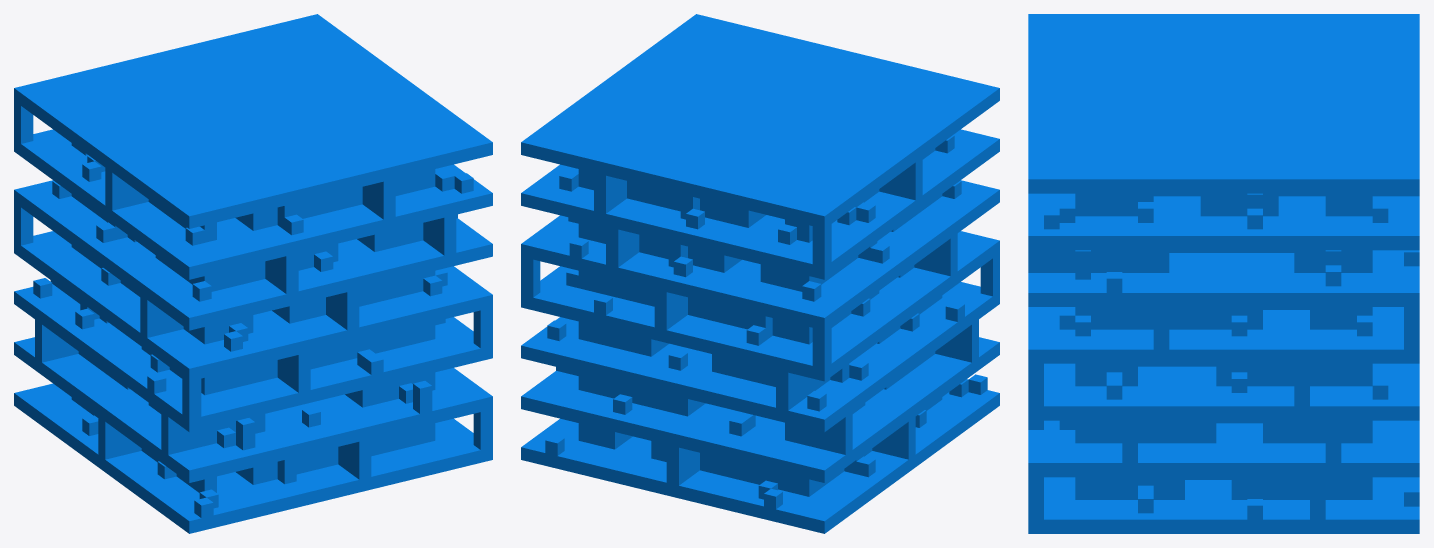
The model's file is ерейнд.dae.
3 views of the same model, side by side, from view 1: azimuth 30°, elevation 25°; view 2: azimuth 150°, elevation 25°; view 3: azimuth 270°, elevation 25° (orthographic). The views are drawn at different scales.
Visible parts, largest first — view 1: Ерейнд.; view 2: Ерейнд.; view 3: Ерейнд..
Part boxes in pixels (x1,y1,x2,y2): Ерейнд.: (14,14,492,533); Ерейнд.: (521,14,999,533); Ерейнд.: (1028,14,1419,533).
Bounding box in the file's own units: 2.5 × 2.5 × 2.5.
